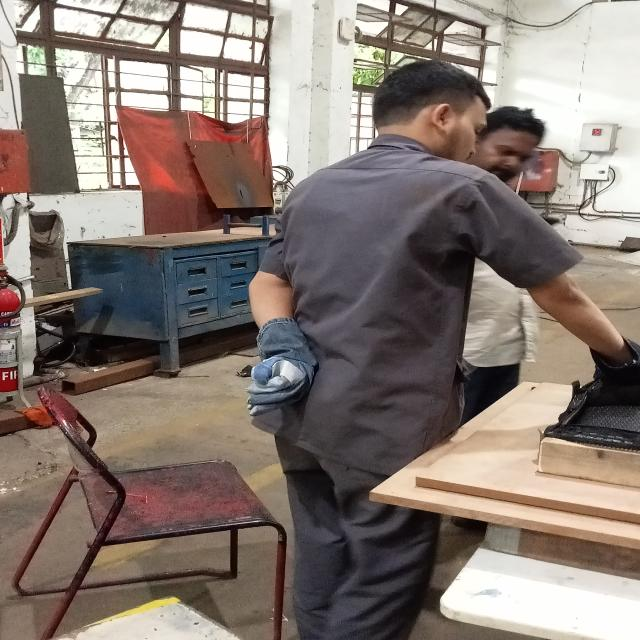Gloves-Detection: (242, 316, 313, 414)
